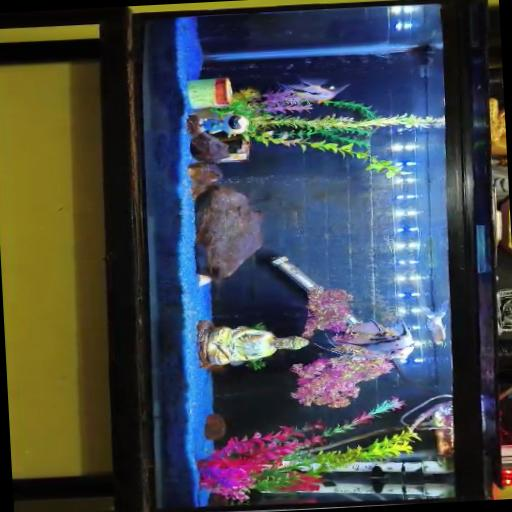Fish: (336, 320, 414, 359), (281, 79, 347, 103), (421, 301, 447, 344), (369, 465, 385, 493)
